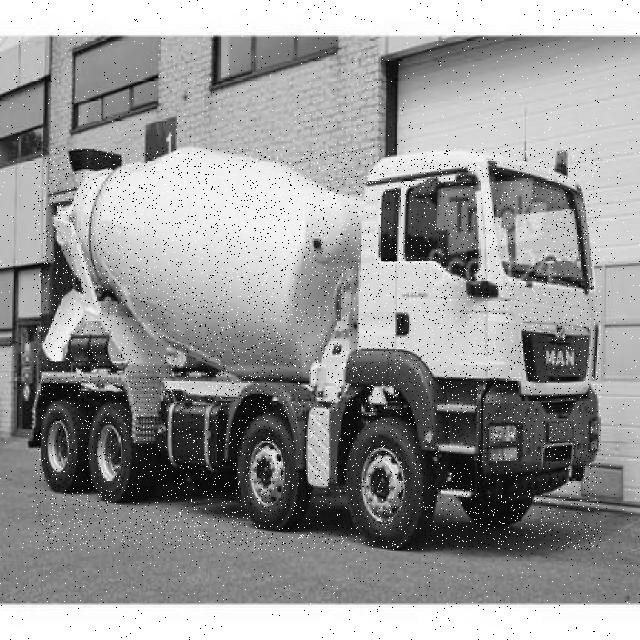Concrete Mixer: (34, 148, 601, 550)
